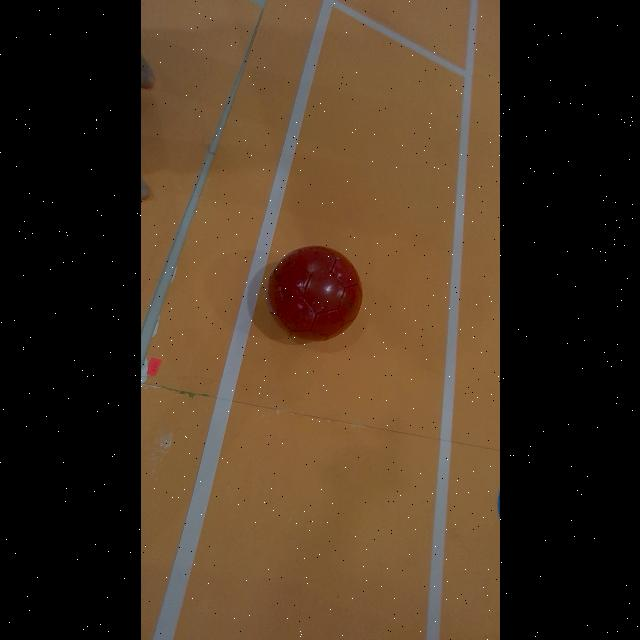R: (267, 246, 362, 342)
